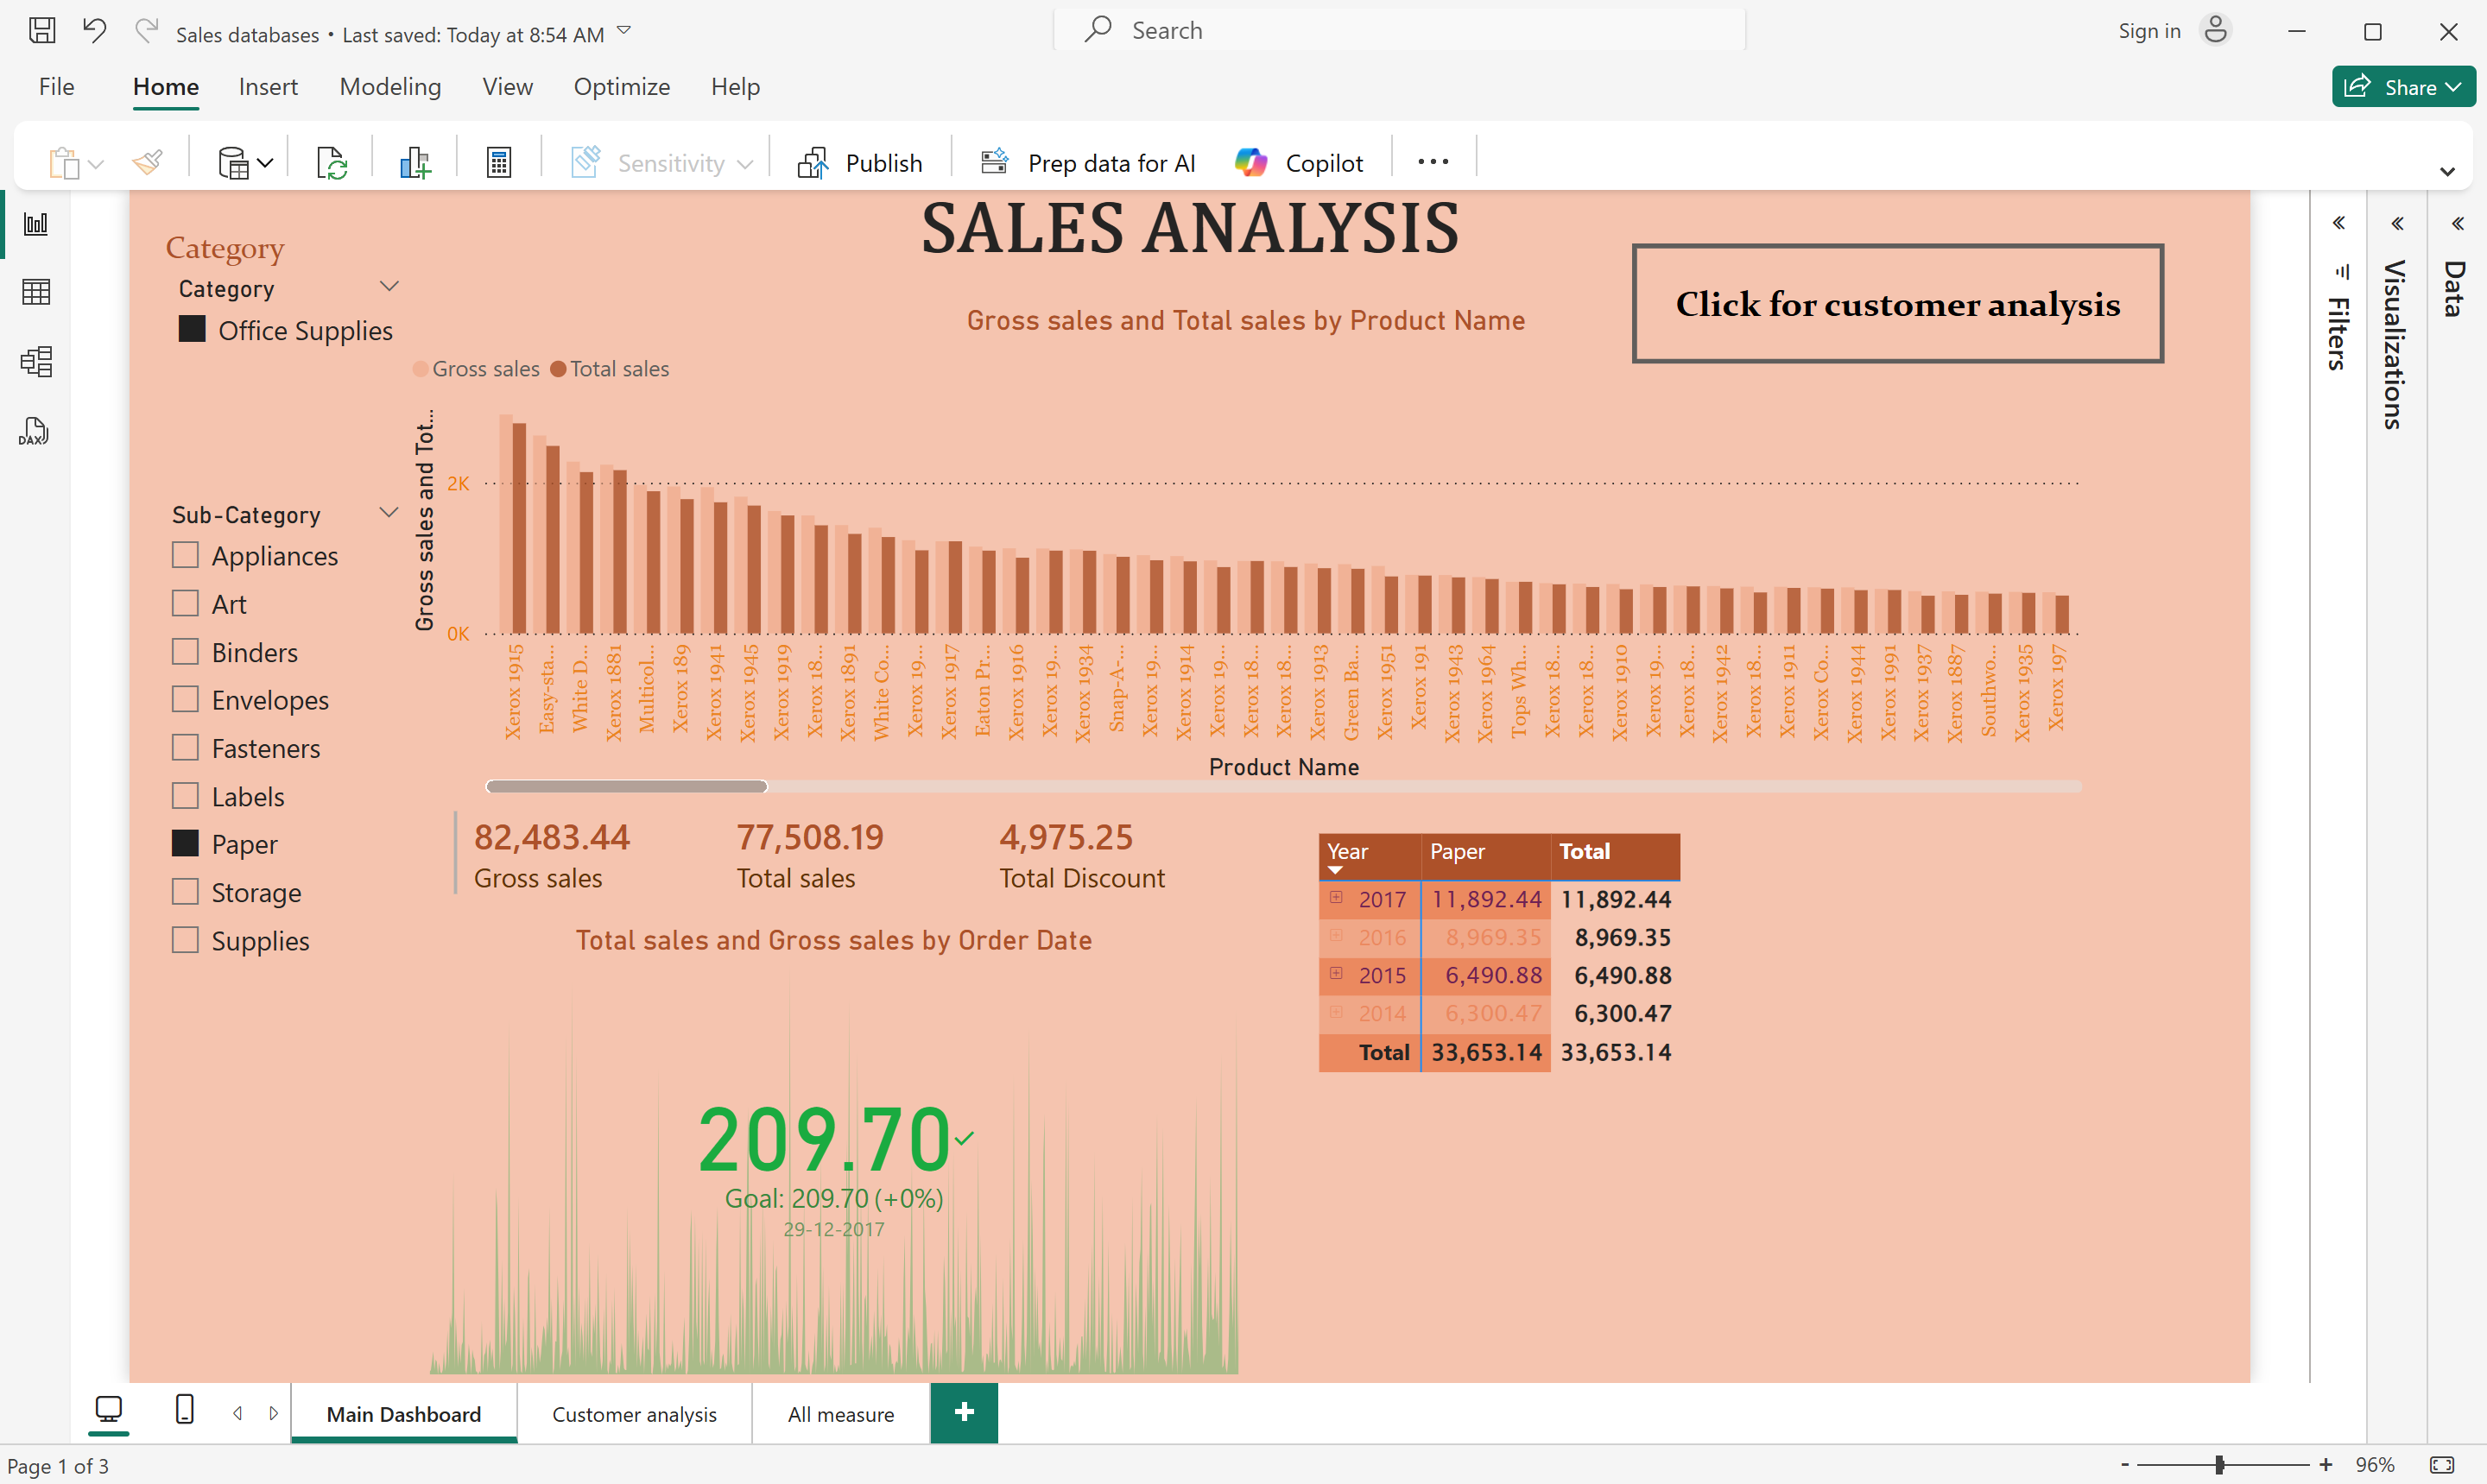

What the dashboard file says about the page in this screenshot:
{"tool":"powerbi","page":{"name":"Main Dashboard ","canvas":[1280,720],"ordinal":0},"visuals":[{"type":"textbox","title":"SALES ANALYSIS","box":[0,0,1280,96.9],"z":0},{"type":"clusteredColumnChart","fields":{"Y":["Mymeasure.Gross sales","Mymeasure.Total sales"],"Category":["Product.Product Name"]},"box":[164.9,68.4,1018.7,300.2],"z":1000},{"type":"slicer","fields":{"Values":["Product.Sub-Category"]},"box":[12.8,182.1,162.9,537.4],"z":2000},{"type":"slicer","title":"Category","fields":{"Values":["Product.Category"]},"box":[16.7,23.1,159,138.5],"z":3000},{"type":"multiRowCard","fields":{"Values":["Mymeasure.Gross sales","Mymeasure.Total sales","Mymeasure.Total Discount"]},"box":[191.1,369.4,497.6,73.1],"z":4000},{"type":"kpi","fields":{"Goal":["Mymeasure.Gross sales"],"TrendLine":["Sales.Order Date"],"Indicator":["Mymeasure.Total sales"]},"box":[176.3,443.3,498.2,277.2],"z":5000},{"type":"pivotTable","fields":{"Rows":["Sales.Order Date.Variation.Date Hierarchy.Year","Sales.Order Date.Variation.Date Hierarchy.Quarter","Sales.Order Date.Variation.Date Hierarchy.Month","Sales.Order Date.Variation.Date Hierarchy.Day"],"Columns":["Product.Sub-Category"],"Values":["Mymeasure.m_profit"]},"box":[712.8,383.2,567.2,337.2],"z":6000},{"type":"actionButton","box":[906.5,31.9,321.3,72.7],"z":7000}]}

Visuals, with their boxes on the page's 1280x720 design canvas (x1, y1, x2, y2). These are canvas units, not pixel positions in the 2487x1484 screenshot, which may show the page scaled, cropped or inside an application window:
"SALES ANALYSIS" textbox: (left=0, top=0, right=1280, bottom=97)
clusteredColumnChart - Mymeasure.Gross sales x Mymeasure.Total sales: (left=165, top=68, right=1184, bottom=369)
slicer - Product.Sub-Category: (left=13, top=182, right=176, bottom=720)
"Category" slicer: (left=17, top=23, right=176, bottom=162)
multiRowCard - Mymeasure.Gross sales x Mymeasure.Total sales: (left=191, top=369, right=689, bottom=442)
kpi - Mymeasure.Gross sales x Sales.Order Date: (left=176, top=443, right=674, bottom=720)
pivotTable - Sales.Order Date.Variation.Date Hierarchy.Year x Sales.Order Date.Variation.Date Hierarchy.Quarter: (left=713, top=383, right=1280, bottom=720)
actionButton: (left=906, top=32, right=1228, bottom=105)
